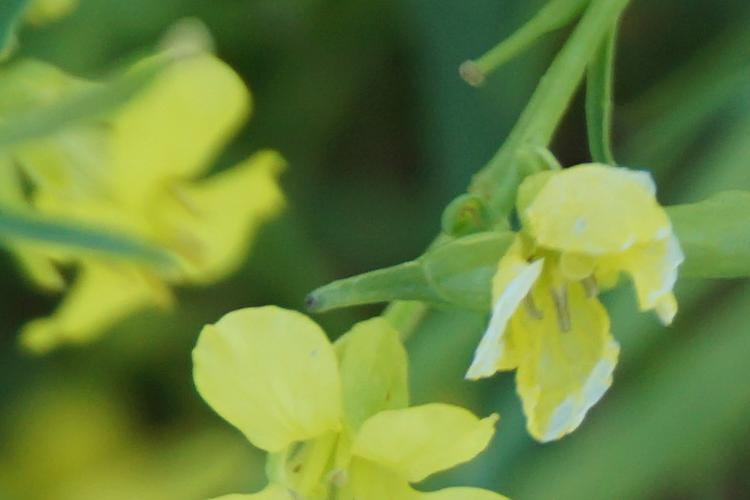pod: (454, 6, 621, 89)
yellow: (7, 54, 286, 324), (460, 141, 680, 433), (189, 300, 508, 499)
